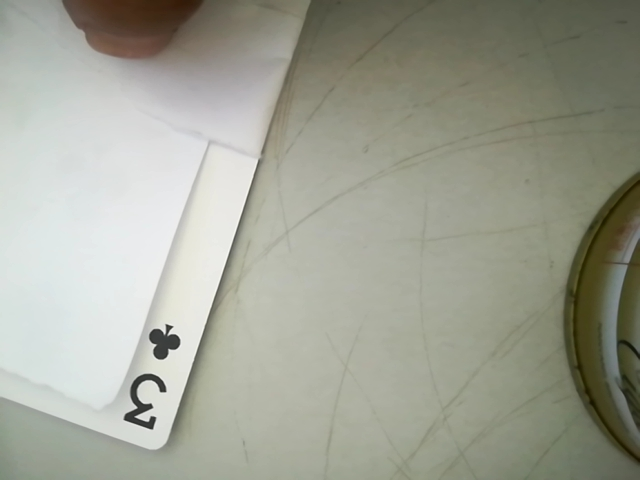mh 3: (116, 312, 194, 446)
